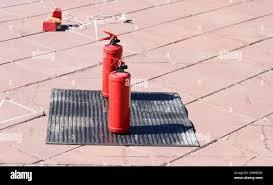wall-mounted: (106, 59, 132, 134), (99, 30, 124, 98)
